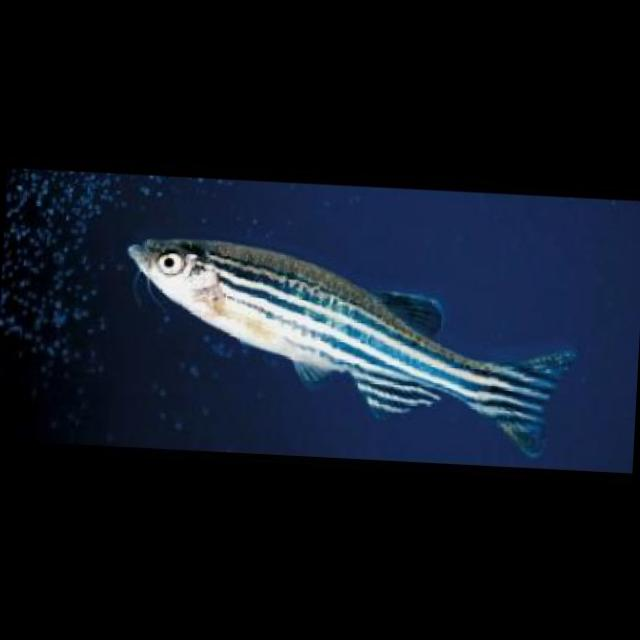ZebraFish: (116, 230, 580, 456)
